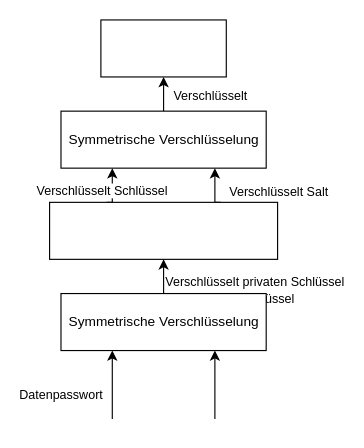
Some shapes in this 364 by 448 pixel diagram are drawn without their labels. The shapes that lost their labels are listed below. From the top down, each one's box as (x1, y1, x2, y2) in pixels, then its label:
(100, 19, 226, 77): Daten
(48, 201, 278, 259): Asymmetrische Verschlüsselung
